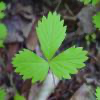Strawberry leaf: (36, 9, 69, 61), (48, 43, 90, 82), (10, 49, 50, 82)
